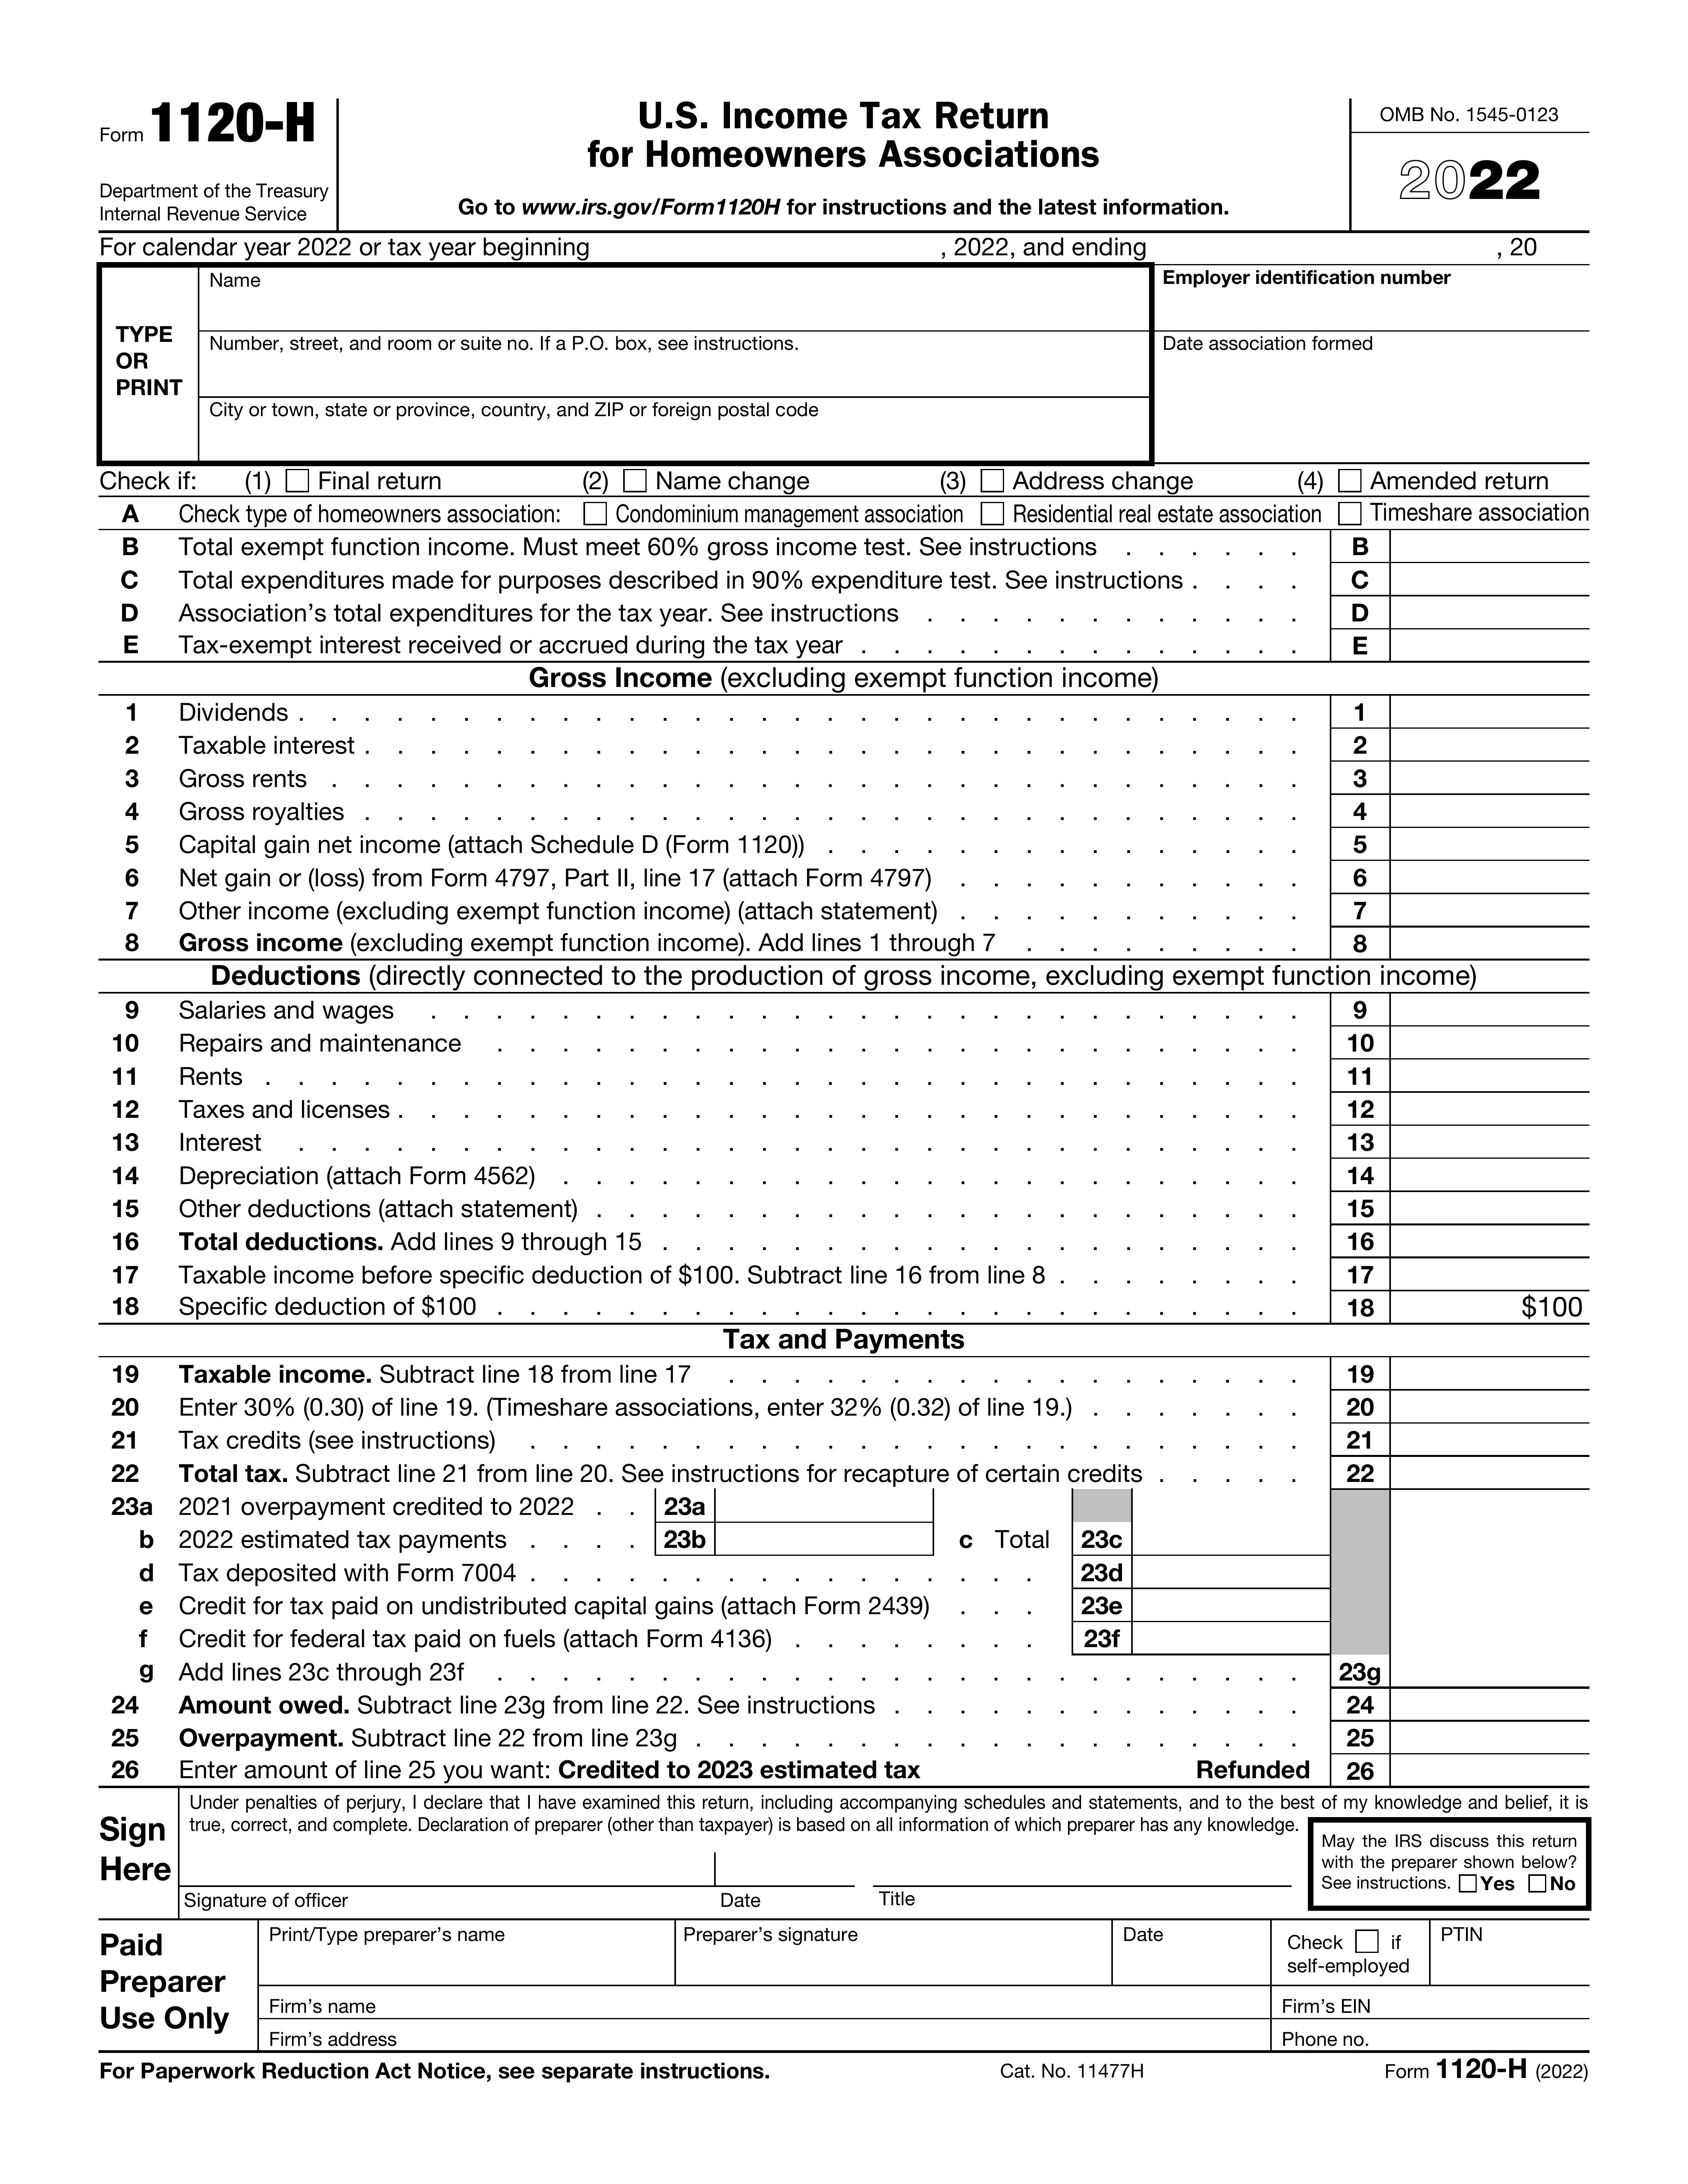form: (78, 73, 1617, 463), (67, 1783, 1615, 2062)
table: (71, 659, 1605, 1790), (76, 498, 1603, 661)
